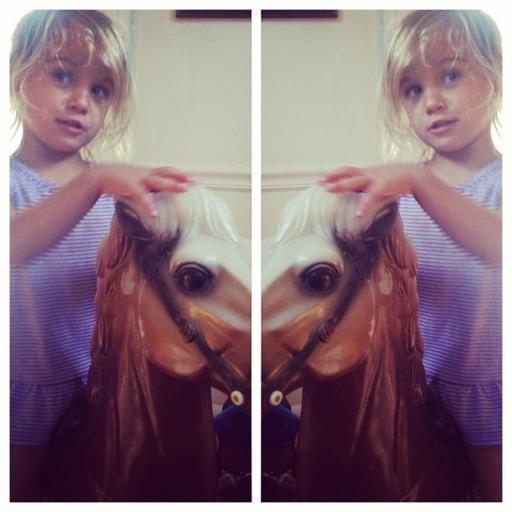horse: (260, 180, 472, 502), (52, 182, 251, 512)
